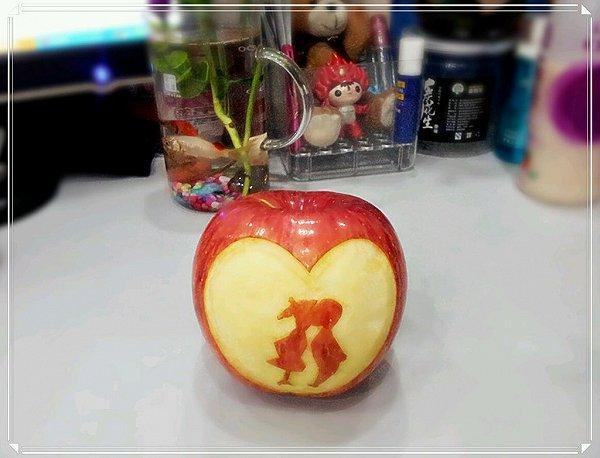apple: (195, 197, 412, 404)
